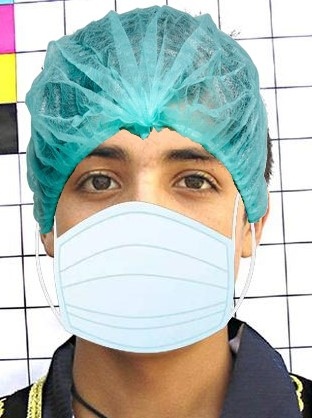with_mask_and_cap: (27, 7, 264, 353)
